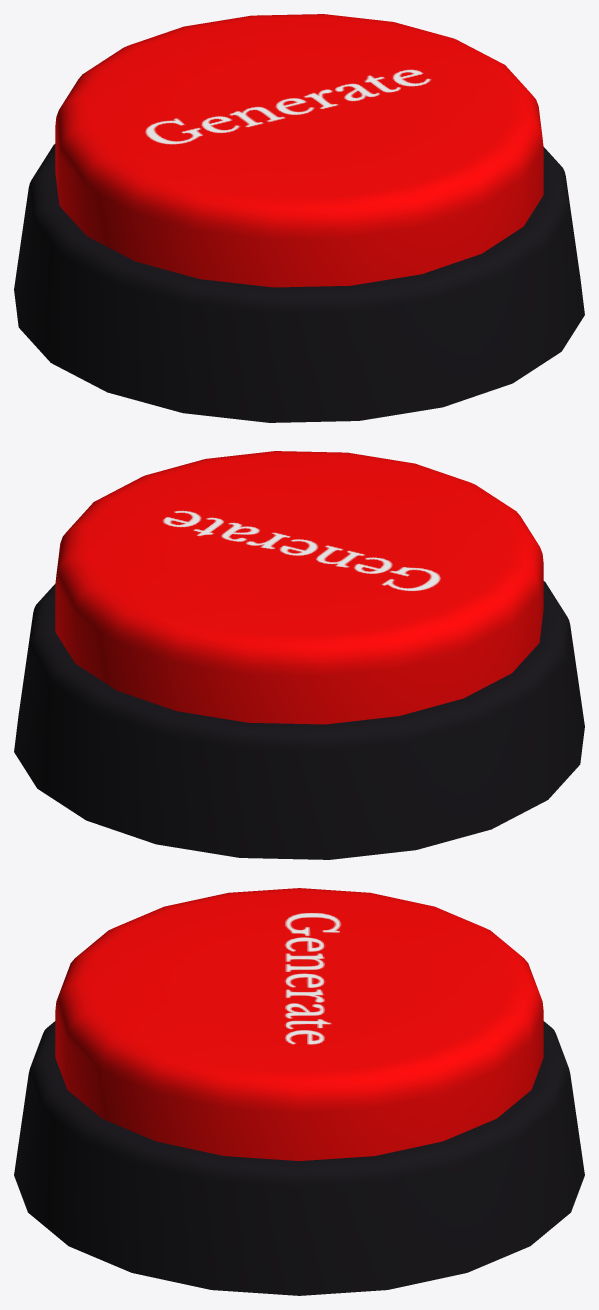
File: buttonRed.glb
The picture shows the model from 3 angles, top to bottom: view 1: azimuth 30°, elevation 25°; view 2: azimuth 150°, elevation 25°; view 3: azimuth 270°, elevation 25°; orthographic projection.
Parts seen in each view (by area): view 1: buttonRed; view 2: buttonRed; view 3: buttonRed.
Part boxes in pixels (bbox=[...]): buttonRed: bbox=[14, 14, 584, 422]; buttonRed: bbox=[14, 451, 584, 859]; buttonRed: bbox=[14, 888, 584, 1295].
Size of the model in its own units: 0.4609 by 0.172 by 0.4609.
Materials: 1 (1 with a texture image).
